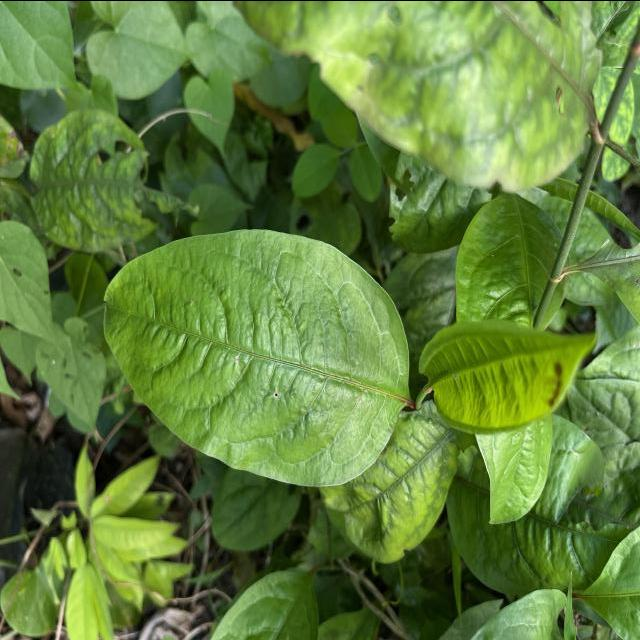Plumbago indica: (98, 221, 421, 494), (413, 313, 603, 442)
